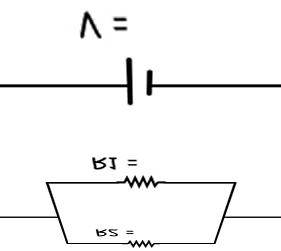resistor: (120, 167, 163, 194), (125, 233, 159, 248)
